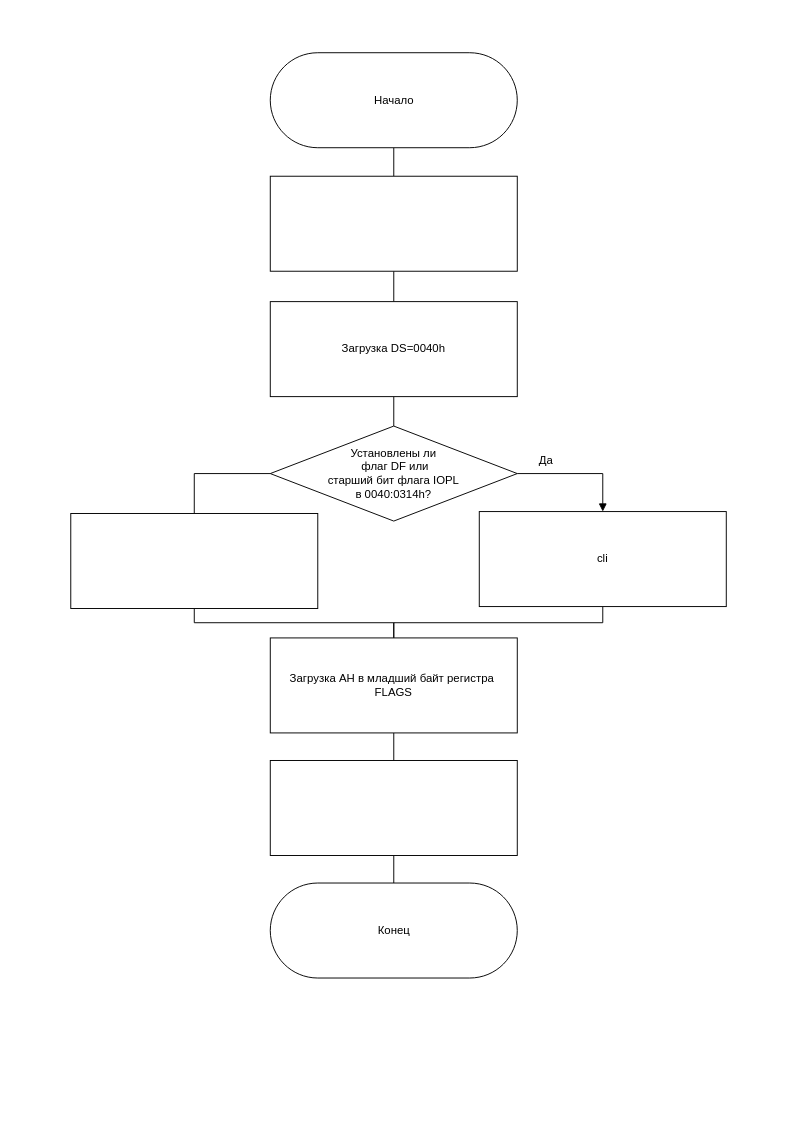
The diagram is 811 pixels wide and 1141 high, and some of its shapes have lost their labels. The shapes that lost their labels are listed below. From the top down, each one's centre as x and y in pixels, then its label:
[393,223]: Сохранение регистров DS, AX
[194,560]: Сброс флага IF по адресу 0040:0314h
[393,807]: Восстановление регистров DS, AX
